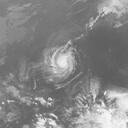cyclone: (43, 42, 79, 86)
